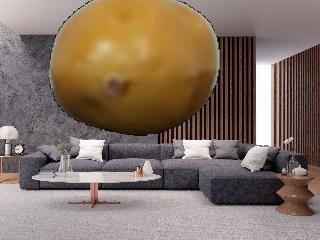potato: (50, 0, 220, 137)
